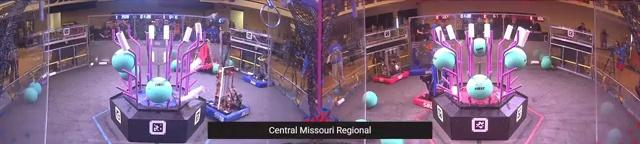reef: (429, 24, 528, 143), (111, 24, 207, 144)
robot: (206, 65, 248, 121), (371, 50, 410, 86), (408, 42, 440, 77), (412, 71, 439, 111), (244, 56, 272, 89), (192, 37, 215, 72)
